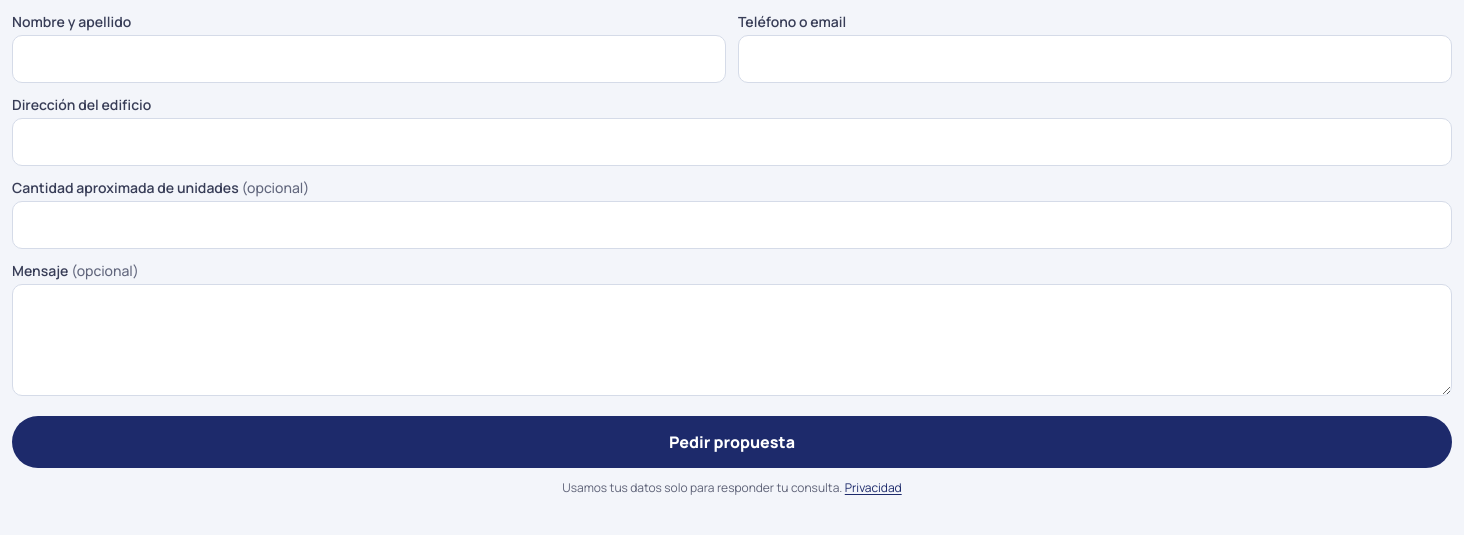
ConsortiumForm › shows errors next to the fields and keeps what was typed
Type "Ana" into the field labelled "Nombre y apellido".
click(369, 59); type("Ana")  # box [12, 35, 726, 83]
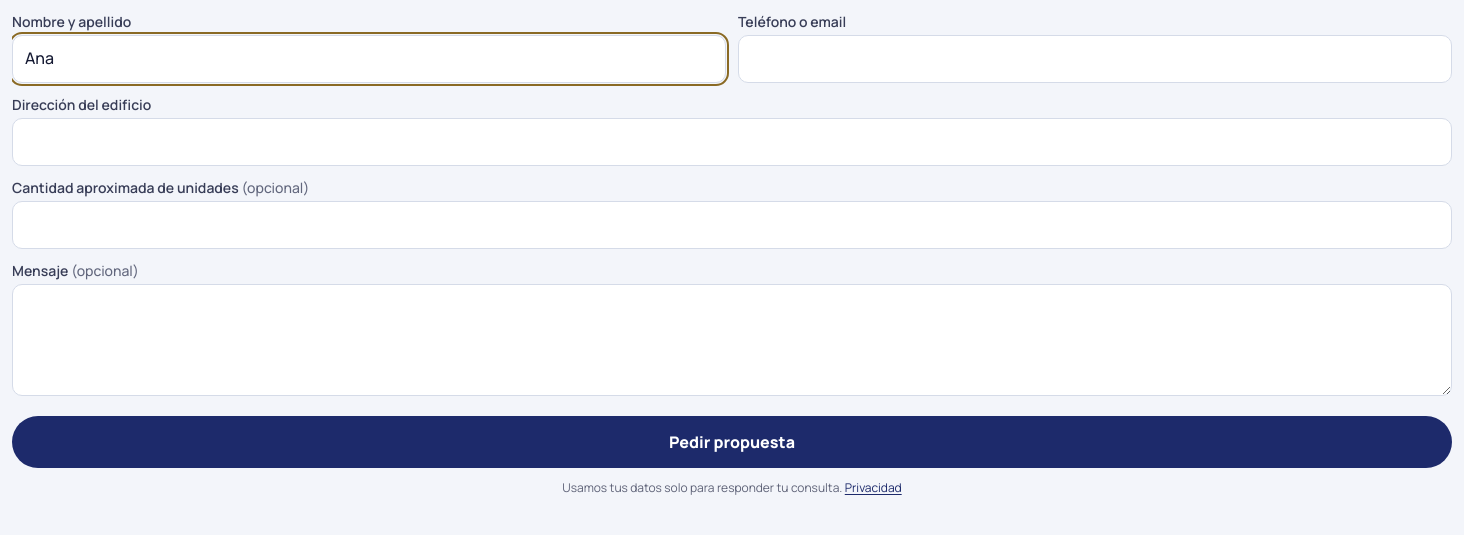
Type "11 3896-7363" into the field labelled "Teléfono o email".
click(1095, 59); type("11 3896-7363")  # box [738, 35, 1452, 83]
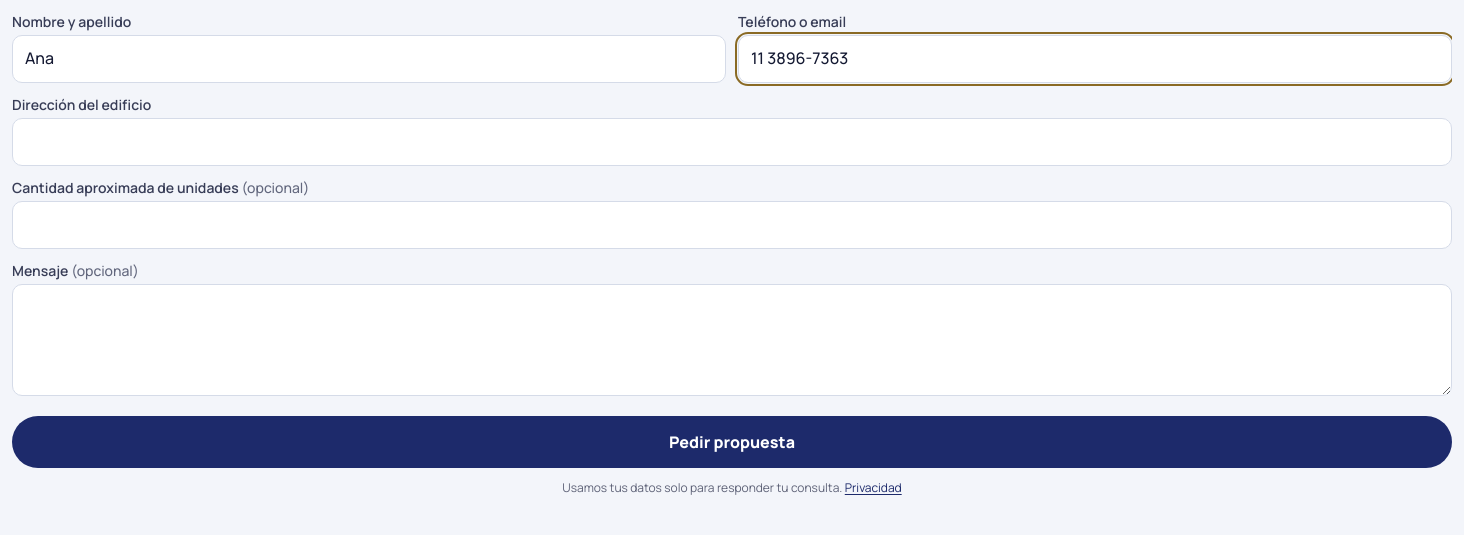
Type "x" into the field labelled "Dirección del edificio".
click(732, 142); type("x")  # box [12, 118, 1452, 166]
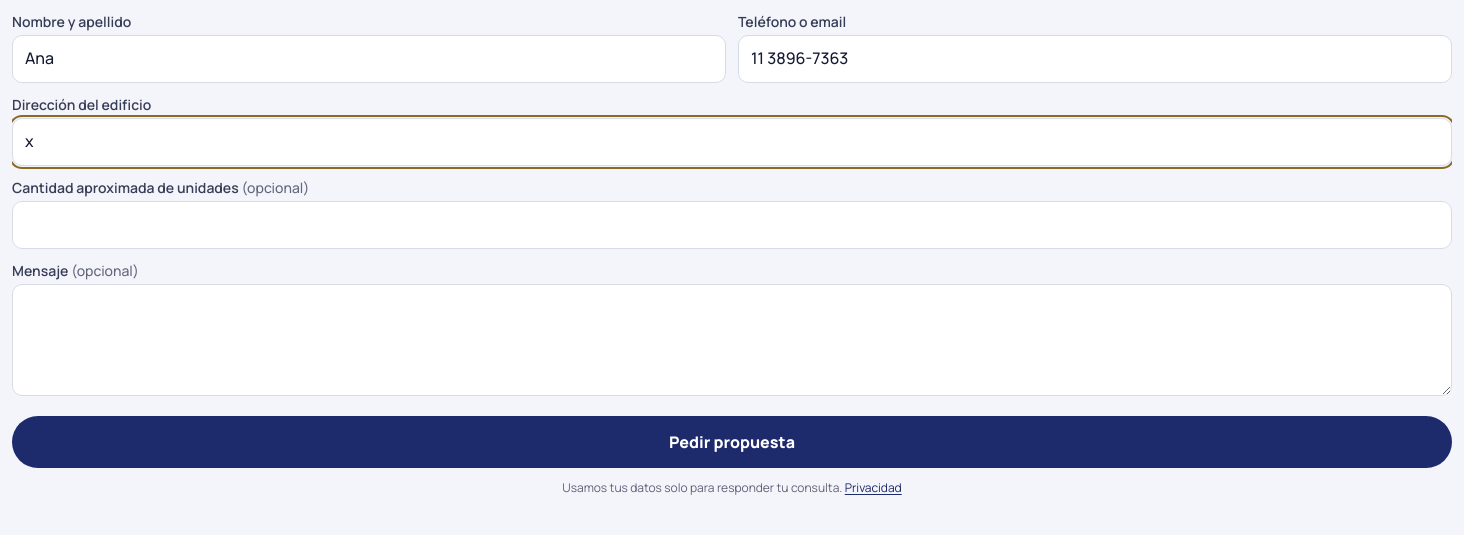
Click the button "Pedir propuesta".
click(732, 442)  # box [12, 416, 1452, 468]
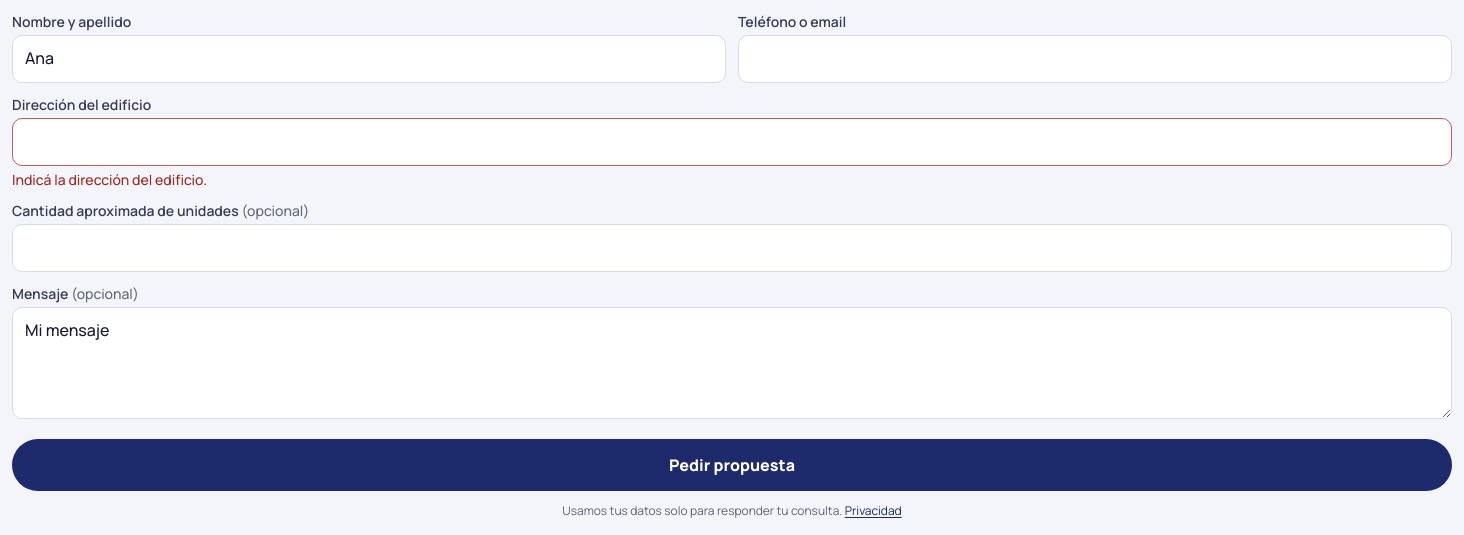
Check: the field labelled "Nombre y apellido" holds "Ana", box [12, 35, 726, 83]
Check: the text "Indicá la dirección del edificio." is shown, box [12, 170, 207, 189]
Check: the text box labelled "Mensaje (opcional)" holds "Mi mensaje", box [12, 307, 1452, 419]
